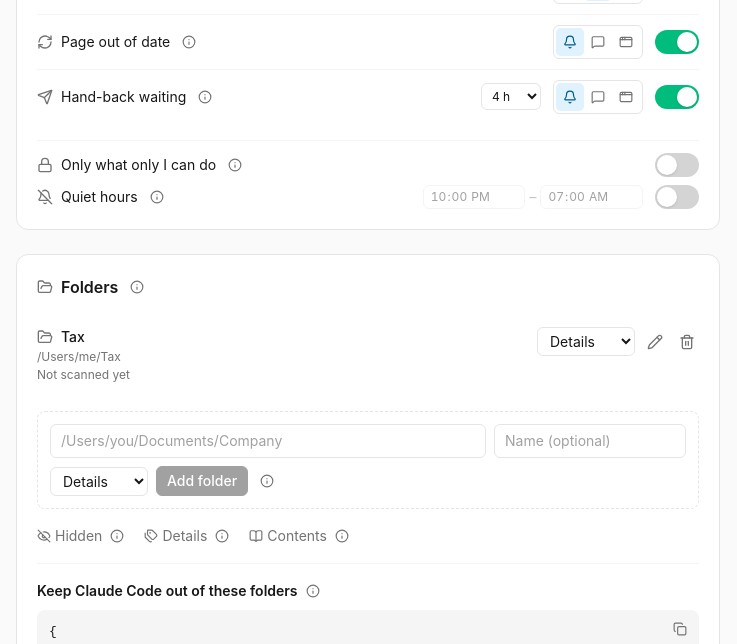
folders › changes the level, renames and removes a folder
The image size is (737, 644).
(page scrolled)
Select "Contents" in the dropdown named "What agents see in Tax" at (586,342), box x1=537 y1=327 x2=635 y2=356
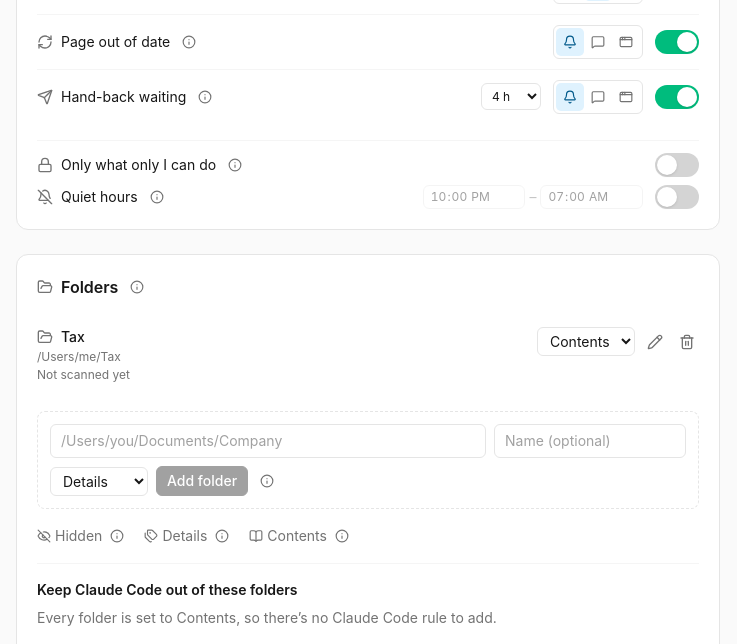
Check: the text "no Claude Code rule to add" is shown, box x1=37 y1=609 x2=497 y2=626
Click the button named "Rename".
click(655, 342)  # box x1=643 y1=330 x2=667 y2=354
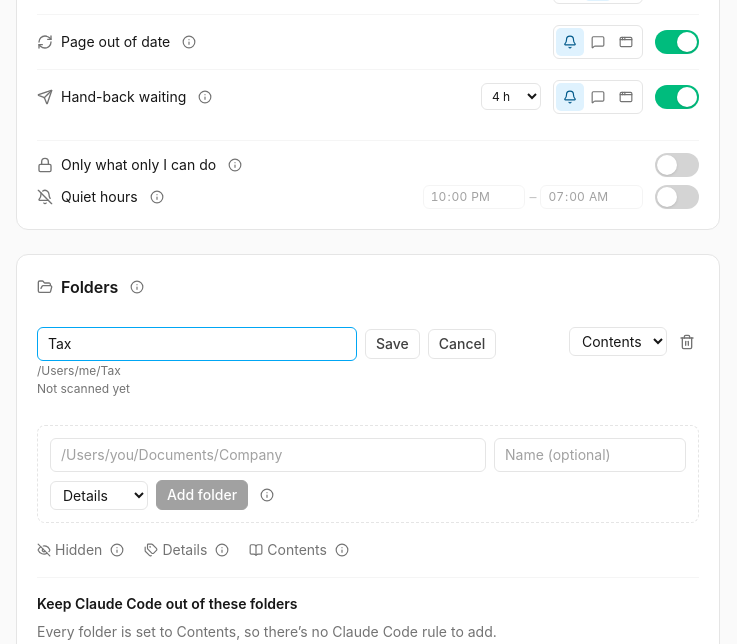
Replace the text in the field named "Folder name" with "Taxes" at (197,344), box x1=37 y1=327 x2=357 y2=361
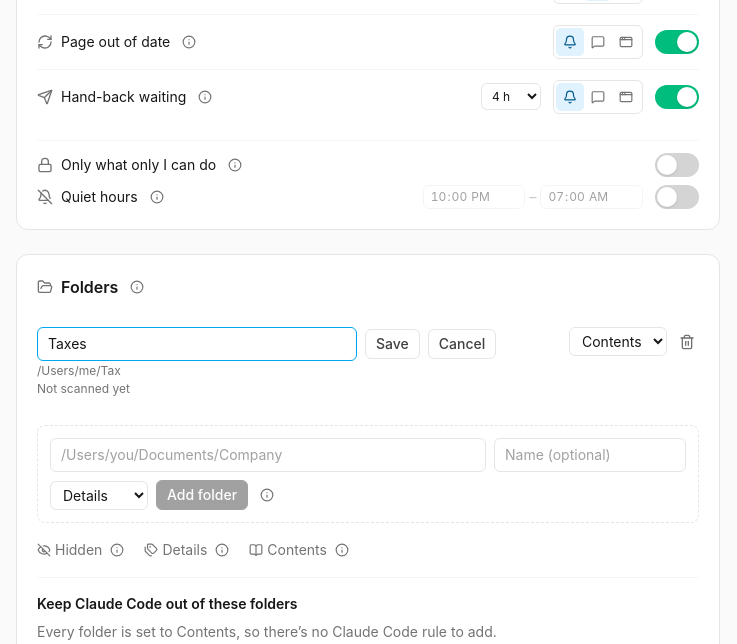
Click the button "Save".
click(392, 344)  # box x1=365 y1=329 x2=420 y2=359
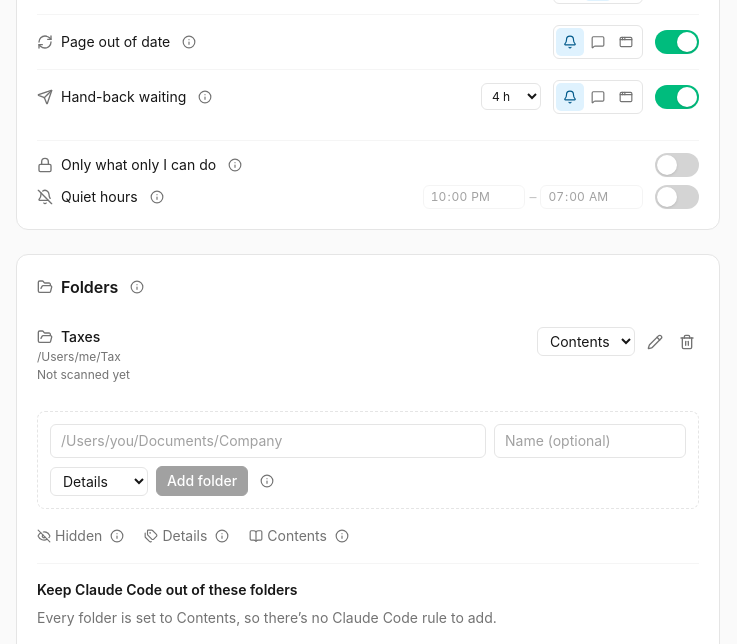
Click the button named "Remove".
click(687, 342)  # box x1=675 y1=330 x2=699 y2=354
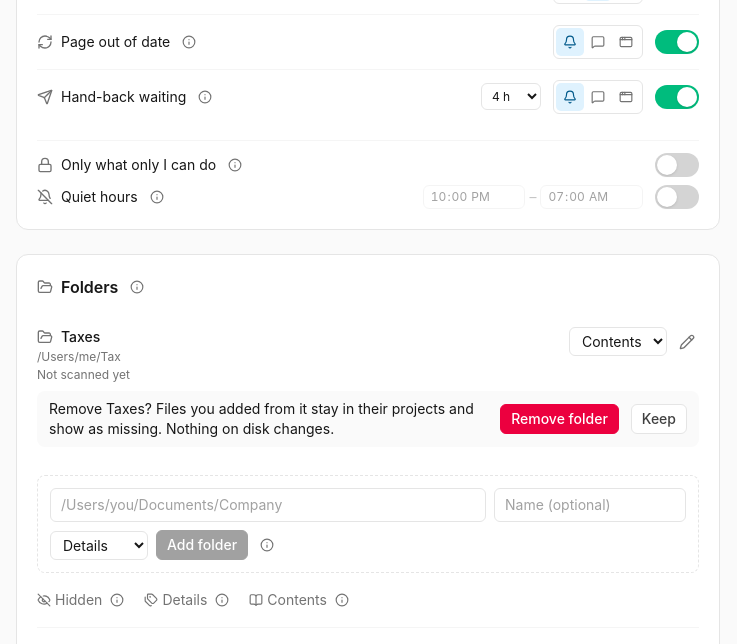
Check: the list item "Taxes" shows "stay in their projects and show as missing", box x1=49 y1=400 x2=474 y2=437
Click the button "Remove folder".
click(559, 419)  # box x1=500 y1=404 x2=619 y2=434
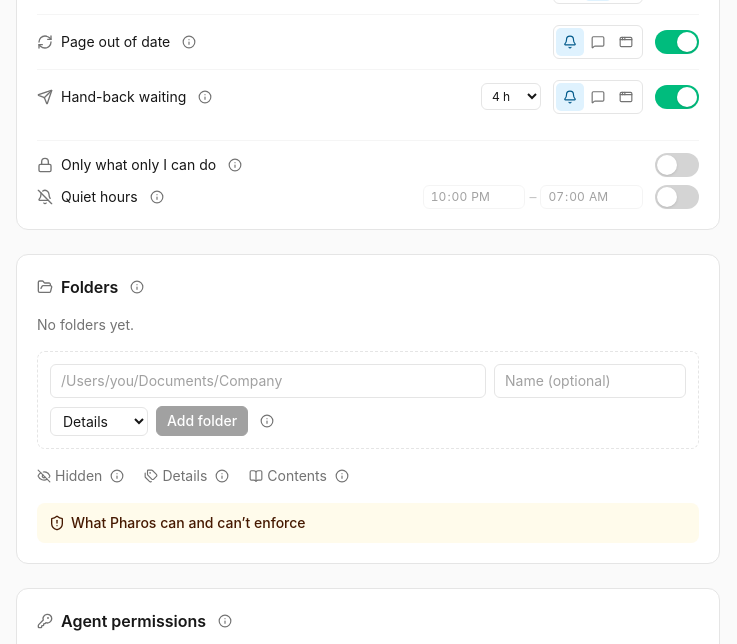
Check: the text "No folders yet." is shown, box x1=37 y1=316 x2=134 y2=333
